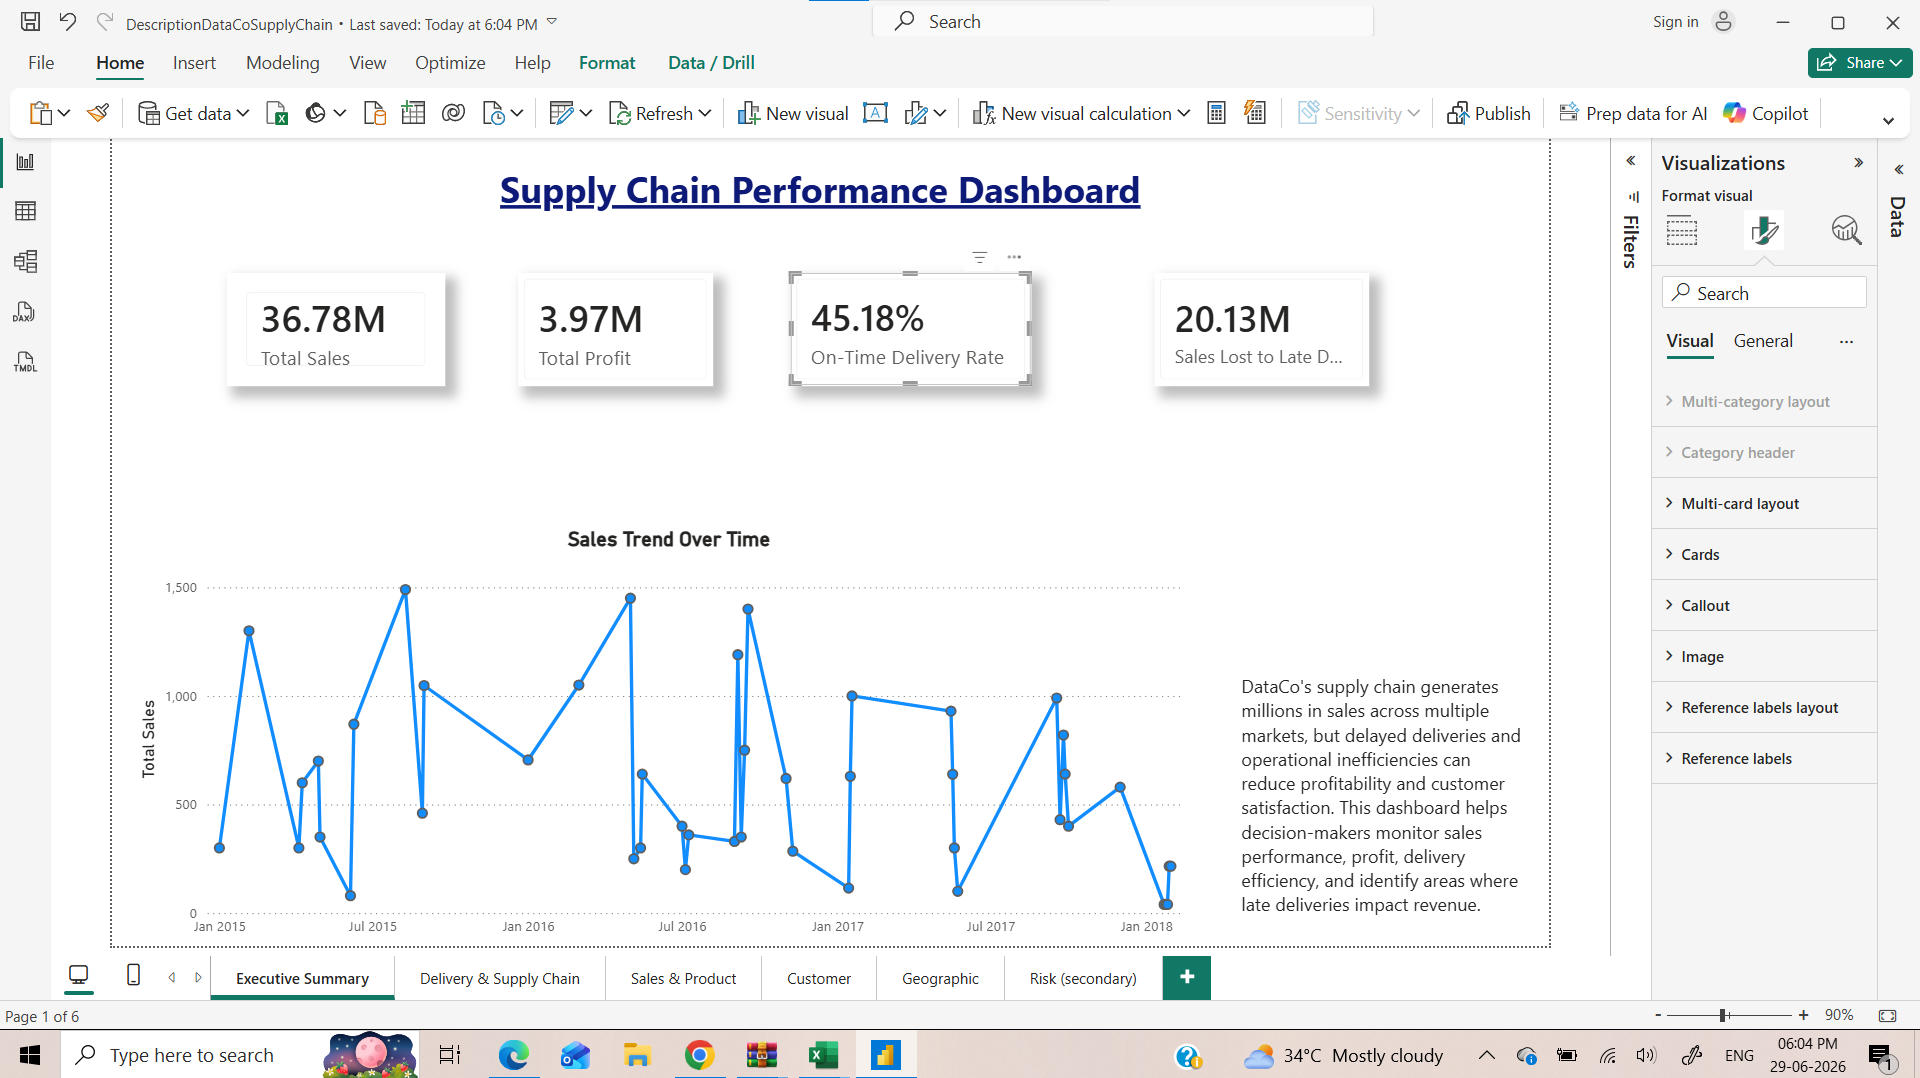

Layout of this report page (visuals, bound fields, positions):
{"tool":"powerbi","page":{"name":"Executive Summary","canvas":[1280,720],"ordinal":0},"visuals":[{"type":"cardVisual","fields":{"Data":["_Measures.Total Sales"]},"box":[102,119.8,194.6,100.9],"z":0},{"type":"cardVisual","fields":{"Data":["_Measures.Total Profit"]},"box":[361.9,119.8,173.2,100.9],"z":1000},{"type":"cardVisual","fields":{"Data":["_Measures.On-Time Delivery Rate"]},"box":[603.9,119.8,214.8,100.9],"z":2000},{"type":"cardVisual","fields":{"Data":["_Measures.Sales Lost to Late Delivery"]},"box":[927.8,119.8,191,100.9],"z":3000},{"type":"textbox","box":[341.1,18.4,598.8,63.8],"z":4000},{"type":"lineChart","title":"Sales Trend Over Time","fields":{"Y":["_Measures.Total Sales"],"Category":["Dim_Date.Date"]},"box":[19.6,346,952.2,374.2],"z":5000},{"type":"textbox","box":[1000.7,472,261.6,234.9],"z":6000}]}

Visuals, with their boxes on the page's 1280x720 design canvas (x1, y1, x2, y2). These are canvas units, not pixel positions in the 1920x1078 screenshot, which may show the page scaled, cropped or inside an application window:
cardVisual - _Measures.Total Sales: {"left": 102, "top": 120, "right": 297, "bottom": 221}
cardVisual - _Measures.Total Profit: {"left": 362, "top": 120, "right": 535, "bottom": 221}
cardVisual - _Measures.On-Time Delivery Rate: {"left": 604, "top": 120, "right": 819, "bottom": 221}
cardVisual - _Measures.Sales Lost to Late Delivery: {"left": 928, "top": 120, "right": 1119, "bottom": 221}
textbox: {"left": 341, "top": 18, "right": 940, "bottom": 82}
"Sales Trend Over Time" lineChart: {"left": 20, "top": 346, "right": 972, "bottom": 720}
textbox: {"left": 1001, "top": 472, "right": 1262, "bottom": 707}
